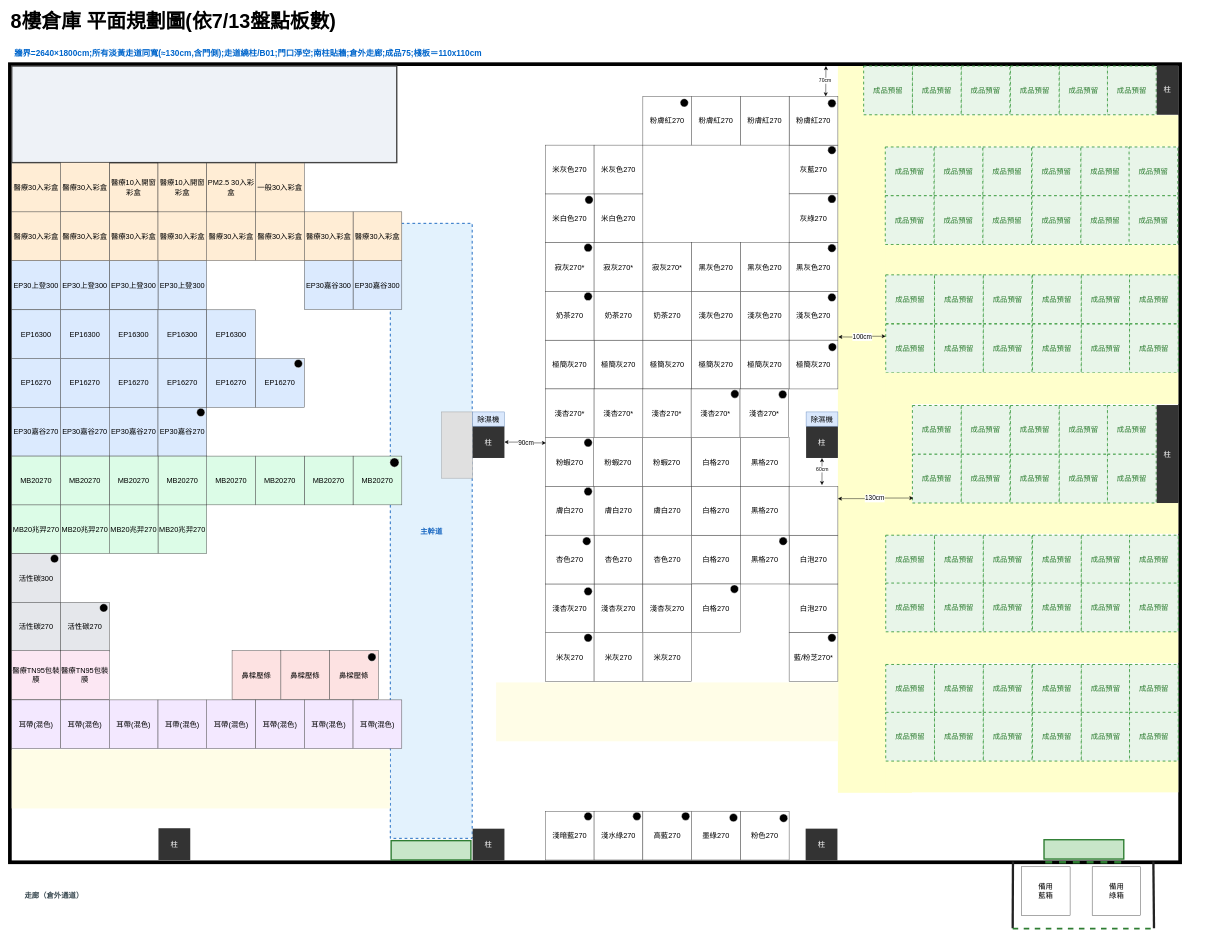
The diagram is 1210 pixels wide and 938 high, and some of its shapes have lost their labels. The centre of each missing label's shape, as x and y in pixels:
B01(固定): point (204, 114)
前門(不使用): point (1083, 849)
後門(鐵捲門)180: point (430, 850)
置物架: point (457, 444)
黑泡270: point (813, 510)
